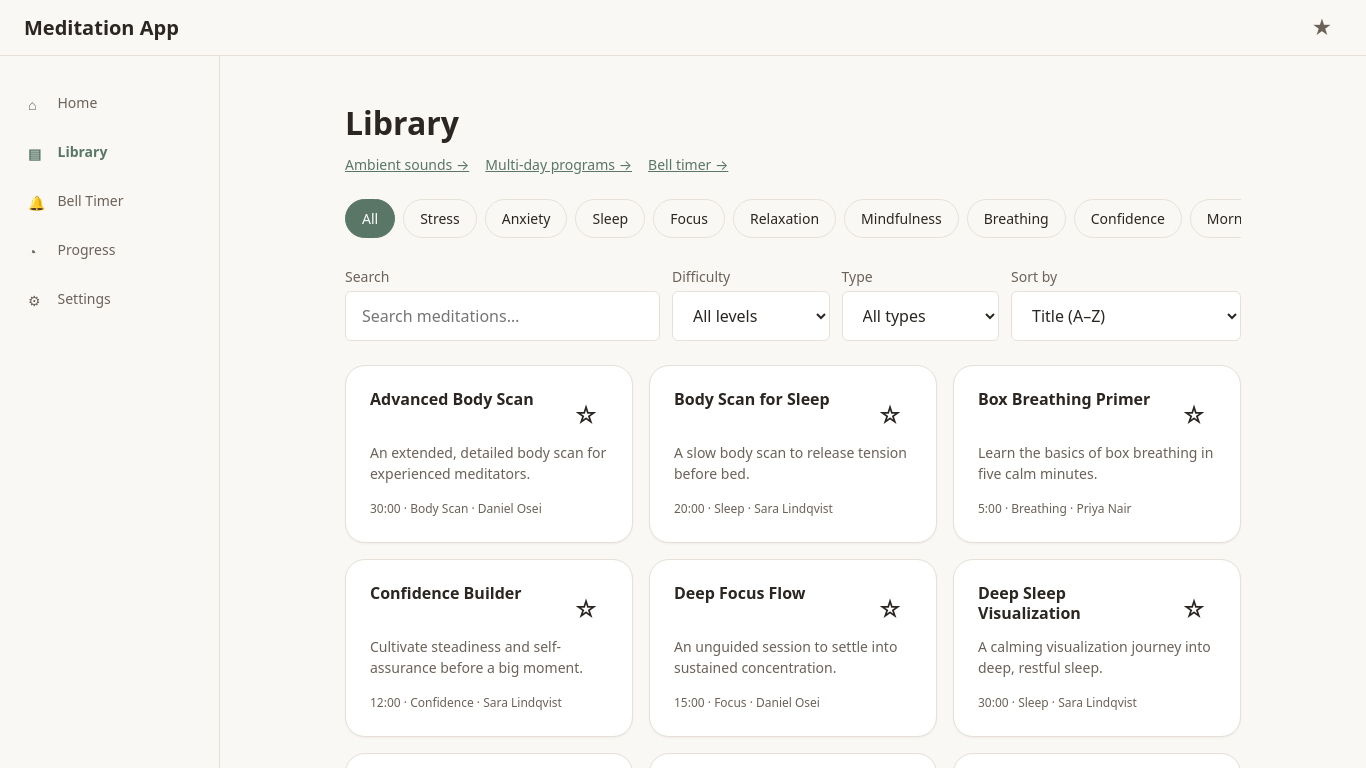
Test: App shell routing › browses the library, opens a meditation, and starts the player
The image size is (1366, 768).
Step 1. Type "Morning Calm" into the search field labelled "Search" → (502, 316), box [345,291,660,341]
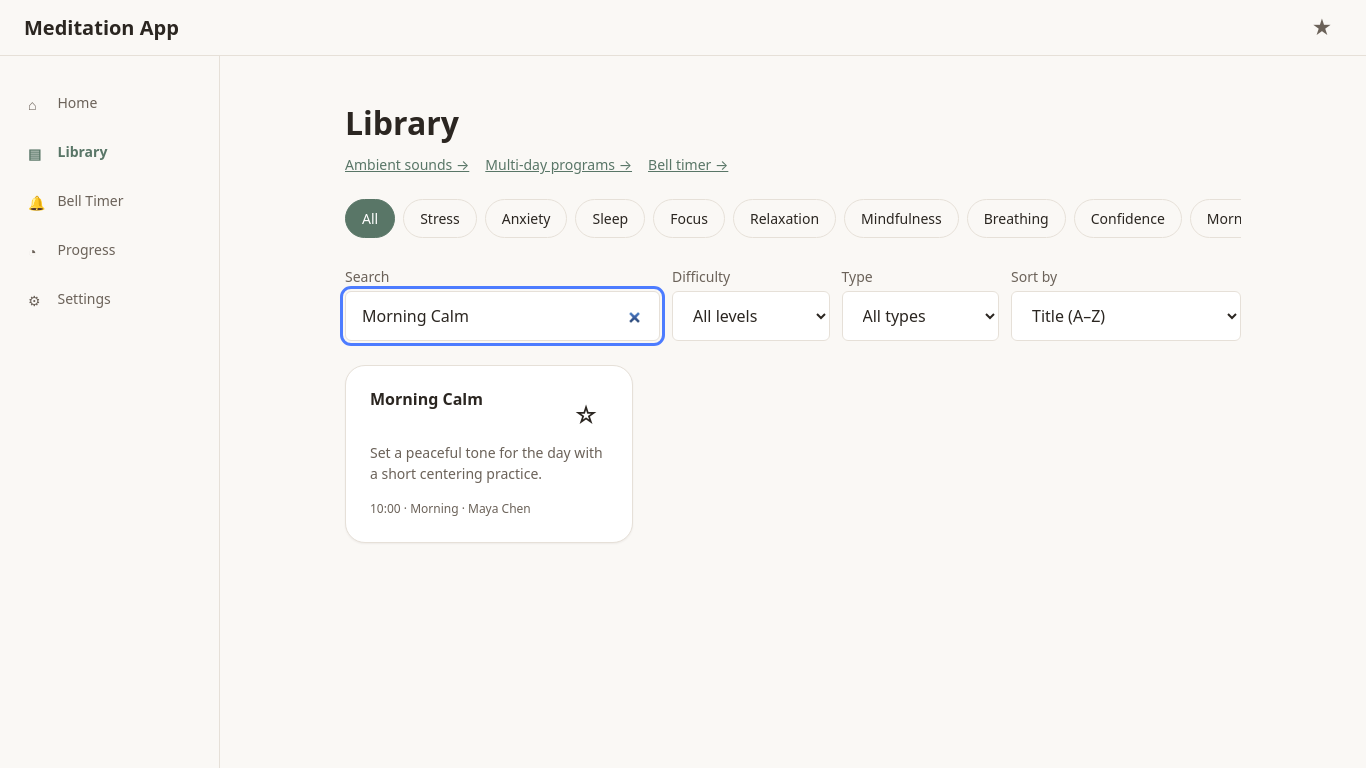
Step 2. Click the link "Morning Calm" → click(426, 399), box [370,388,483,410]
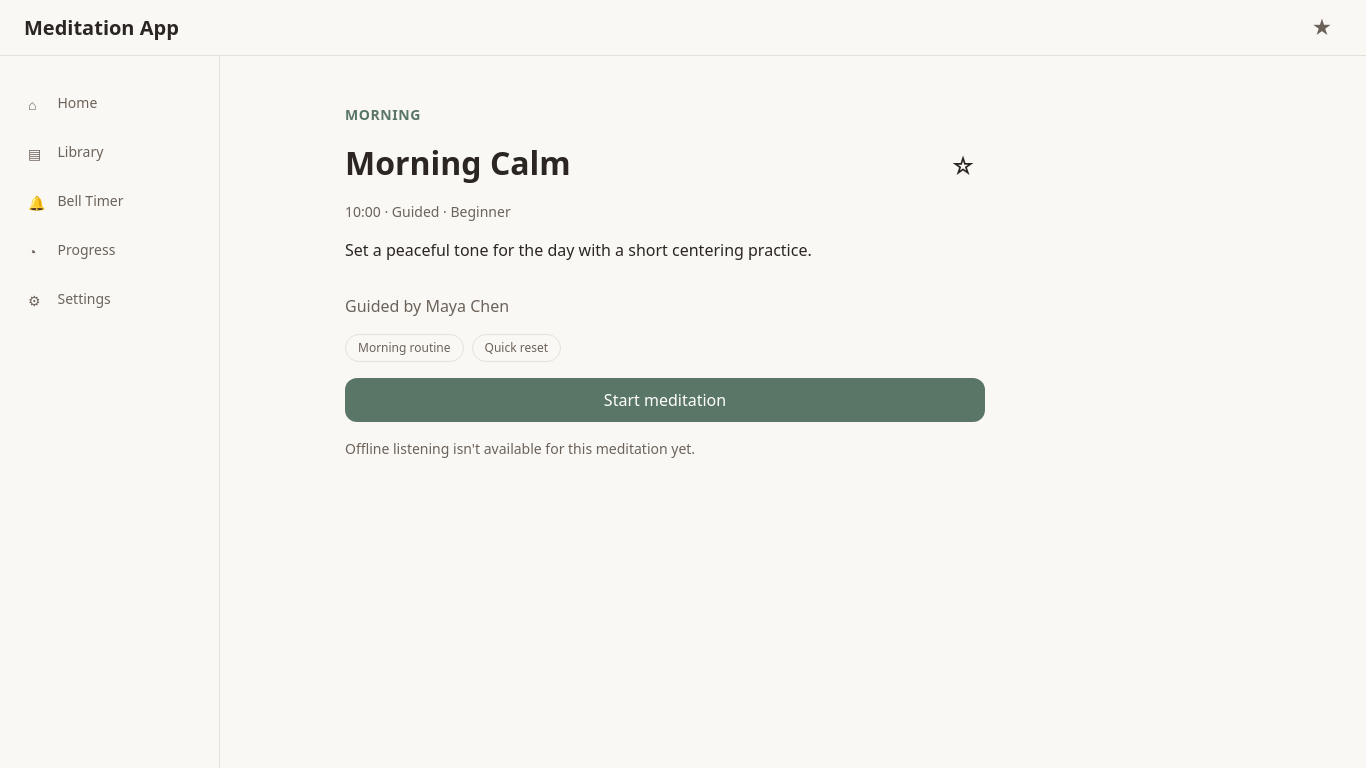
Step 3. Click the button "Start meditation" → click(665, 400), box [345,378,985,422]
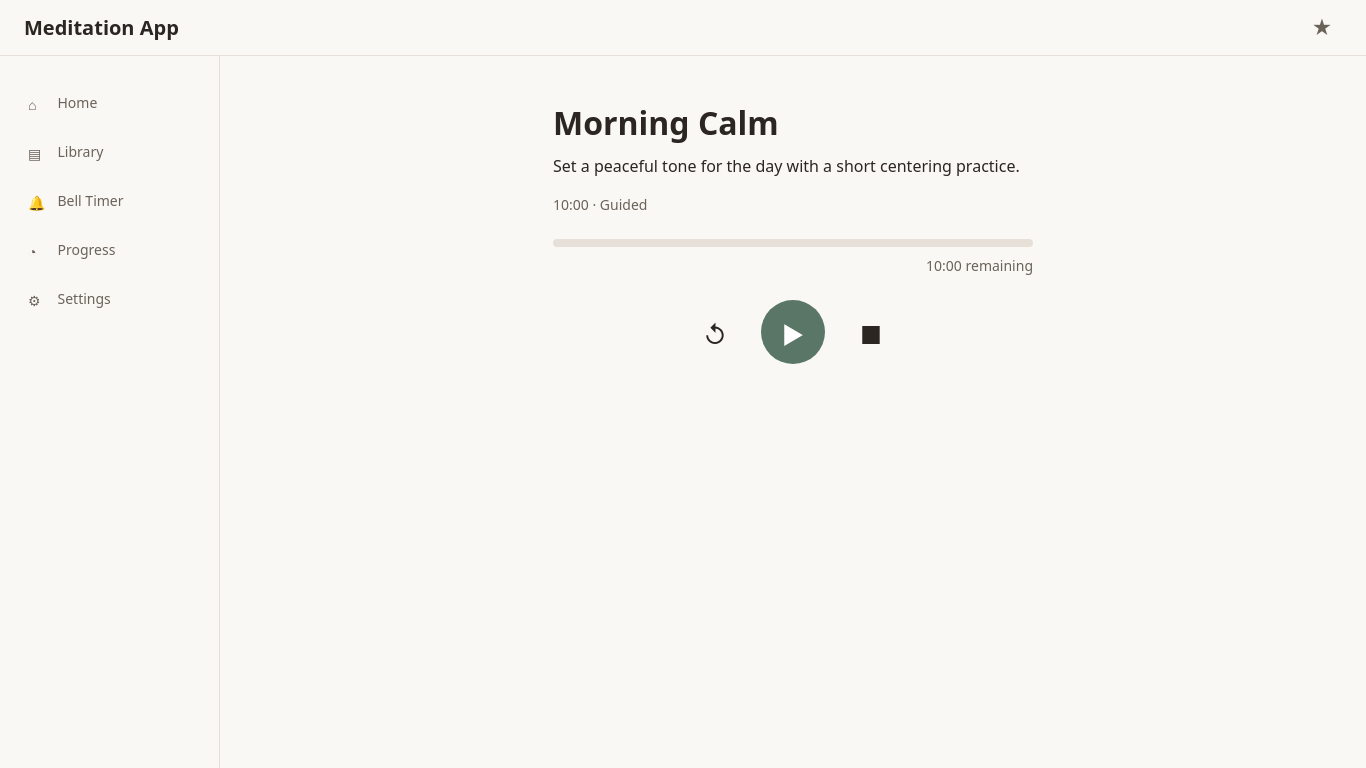
Now the button named "Play" is shown, box [761,300,825,364]
